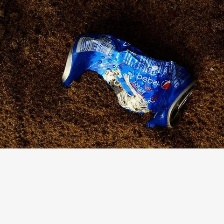can: (56, 28, 199, 134)
